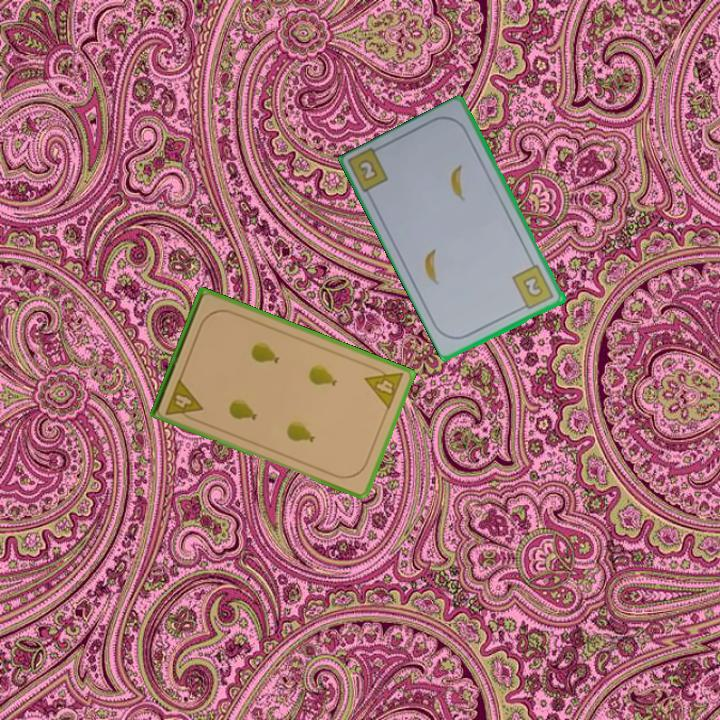2b: (509, 262, 557, 313), (354, 156, 381, 185)
4p: (361, 361, 407, 412), (162, 375, 206, 424)
